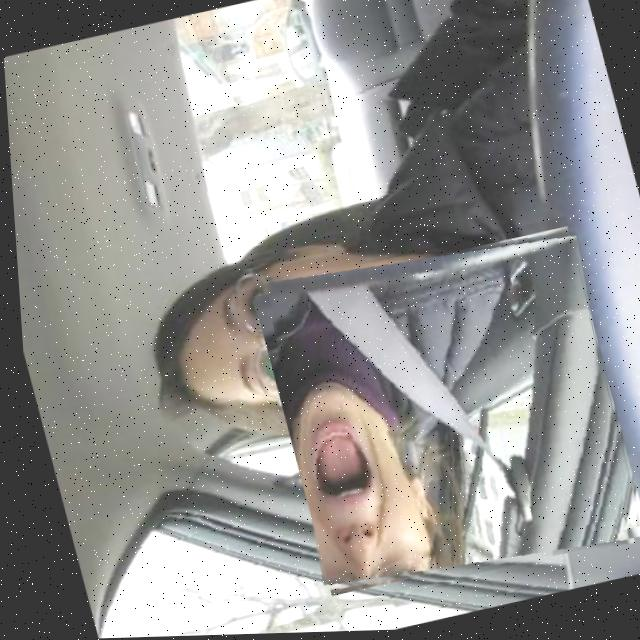seatbelt: (244, 217, 640, 608)
